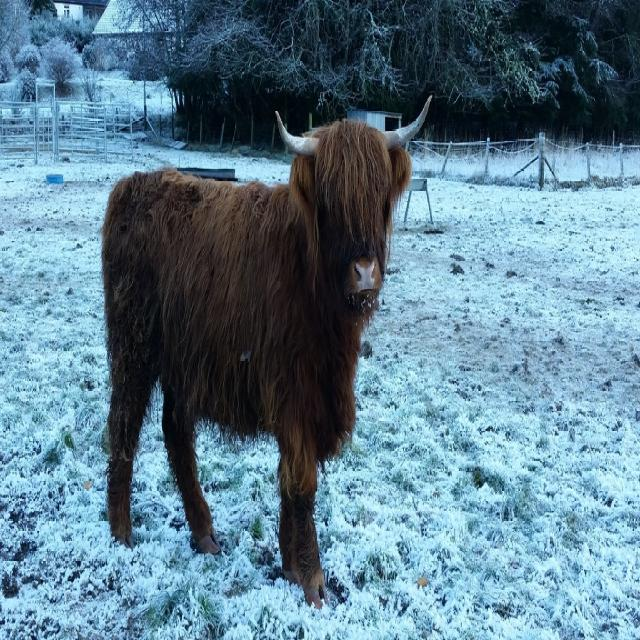Cattle: (99, 93, 433, 612)
